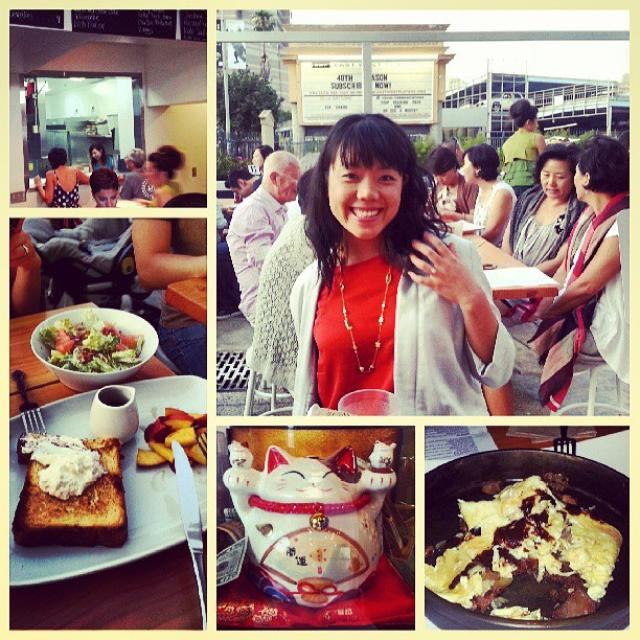Vehicle: (491, 91, 536, 112)
